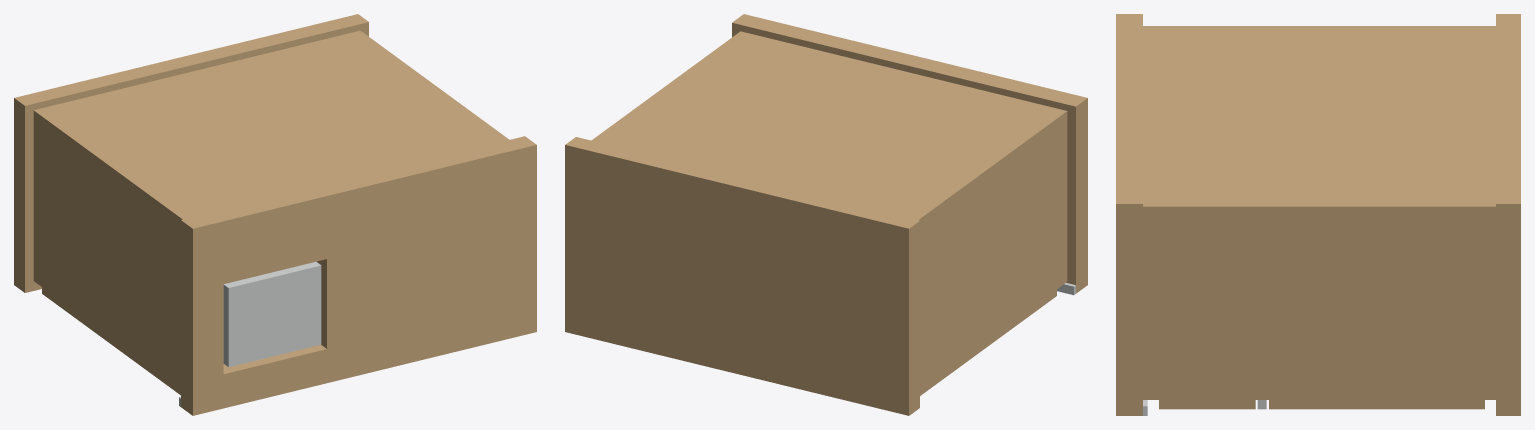
The model's file is galley_1000_candidate.glb.
3 renders of one model, left to right at view 1: azimuth 30°, elevation 25°; view 2: azimuth 150°, elevation 25°; view 3: azimuth 270°, elevation 25°, orthographic. The views are drawn at different scales.
Parts seen in each view (by area): view 1: galley_1000_candidate_carcass, galley_1000_candidate_countertop_right, galley_1000_candidate_plinth, galley_1000_candidate_countertop_left, galley_1000_candidate_sink_marker, galley_1000_candidate_countertop_rear, galley_1000_candidate_countertop_front, galley_1000_candidate_left_door; view 2: galley_1000_candidate_carcass, galley_1000_candidate_plinth, galley_1000_candidate_countertop_left, galley_1000_candidate_countertop_right, galley_1000_candidate_countertop_rear, galley_1000_candidate_left_door; view 3: galley_1000_candidate_carcass, galley_1000_candidate_plinth, galley_1000_candidate_countertop_right, galley_1000_candidate_right_door, galley_1000_candidate_countertop_rear, galley_1000_candidate_drawer_front, galley_1000_candidate_countertop_left.
Part boxes in pixels (x1,y1,x2,y2): galley_1000_candidate_carcass: (33, 30, 509, 388); galley_1000_candidate_countertop_right: (315, 136, 536, 382); galley_1000_candidate_plinth: (14, 14, 368, 292); galley_1000_candidate_countertop_left: (181, 212, 223, 415); galley_1000_candidate_sink_marker: (223, 261, 321, 367); galley_1000_candidate_countertop_rear: (212, 187, 326, 283); galley_1000_candidate_countertop_front: (223, 345, 326, 408); galley_1000_candidate_left_door: (42, 287, 180, 395); galley_1000_candidate_carcass: (591, 31, 1067, 389); galley_1000_candidate_plinth: (565, 137, 919, 415); galley_1000_candidate_countertop_left: (1045, 90, 1087, 293); galley_1000_candidate_countertop_right: (732, 14, 953, 80); galley_1000_candidate_countertop_rear: (941, 65, 1056, 105); galley_1000_candidate_left_door: (920, 289, 1056, 395); galley_1000_candidate_carcass: (1143, 26, 1495, 399); galley_1000_candidate_plinth: (1496, 14, 1520, 415); galley_1000_candidate_countertop_right: (1116, 88, 1142, 415); galley_1000_candidate_right_door: (1269, 400, 1484, 409); galley_1000_candidate_countertop_rear: (1116, 31, 1142, 87); galley_1000_candidate_drawer_front: (1159, 400, 1255, 409); galley_1000_candidate_countertop_left: (1116, 14, 1142, 30).
Size of what is drawn, in the model's own units: 1 by 0.52 by 0.9.
